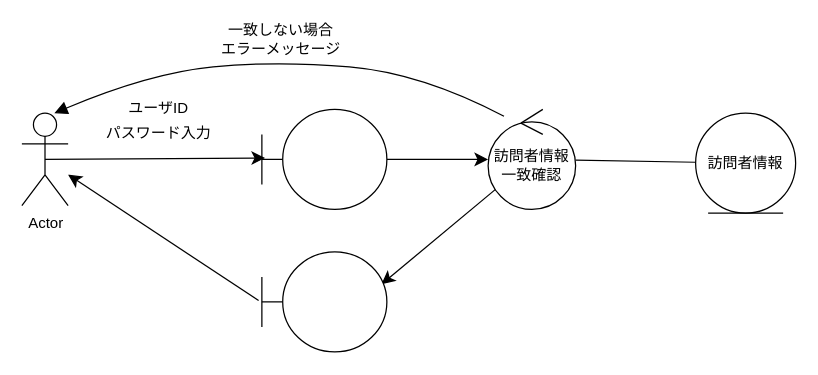
This 818x375 diagram has some shape labels left out. Here are the shapes that lost their labels. From the top down, the box of each, then its label:
(261, 108, 387, 209): ログイン画面
(261, 251, 387, 352): ログイン 完了画面
